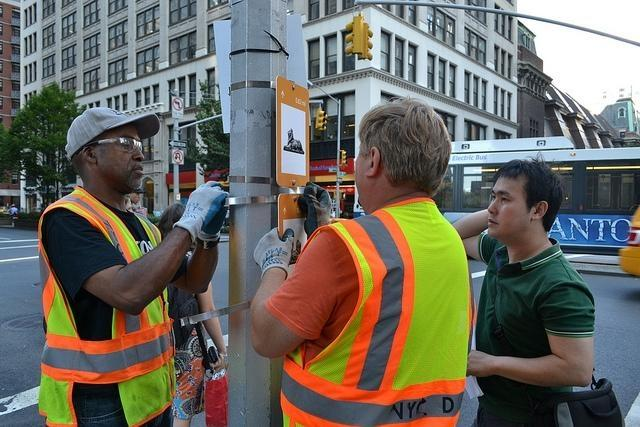bus: (434, 134, 640, 250)
car: (618, 206, 640, 278)
